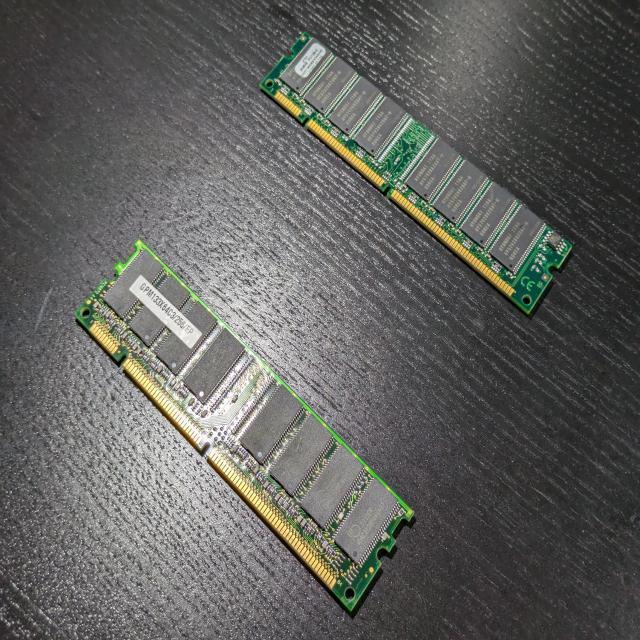RAM: (72, 239, 418, 613), (258, 28, 574, 316)
